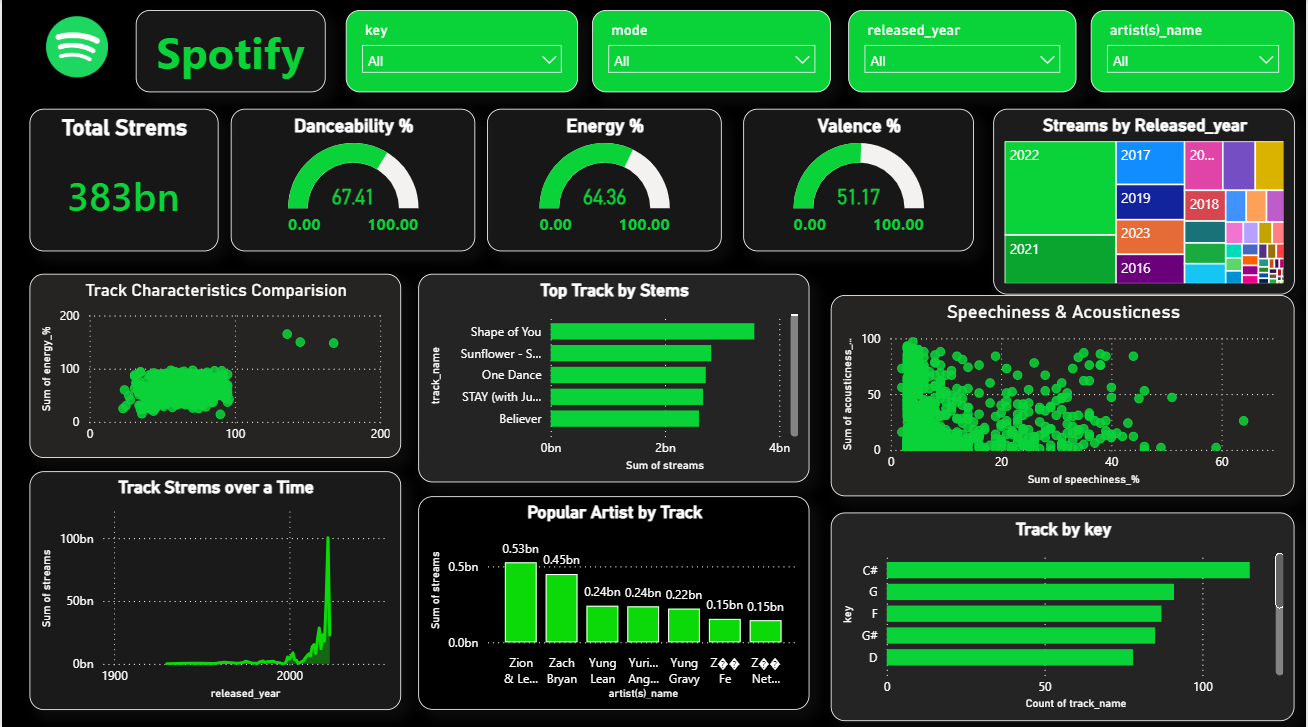

What the dashboard file says about the page in this screenshot:
{"tool":"powerbi","page":{"name":"Page 1","canvas":[1280,720],"ordinal":0},"visuals":[{"type":"slicer","fields":{"Values":["spotify-2023.mode"]},"box":[579.1,9.6,234.6,81],"z":0},{"type":"slicer","fields":{"Values":["spotify-2023.key"]},"box":[337.6,9.6,227.8,81],"z":1000},{"type":"slicer","fields":{"Values":["spotify-2023.released_year"]},"box":[830.2,9.6,223.7,81],"z":2000},{"type":"slicer","fields":{"Values":["spotify-2023.artist(s)_name"]},"box":[1069,9.6,200.3,81],"z":3000},{"type":"cardVisual","title":"Total Strems","fields":{"Data":["Sum(spotify-2023.streams)"]},"box":[27.4,107,185.2,140],"z":4000},{"type":"gauge","title":"Danceability %","fields":{"Y":["Avg(spotify-2023.danceability_%)"]},"box":[225,107,240.1,140],"z":5000},{"type":"image","box":[39.8,16.5,68.6,60.4],"z":6000},{"type":"textbox","box":[131.7,9.6,186.6,81],"z":7000},{"type":"gauge","title":"Energy %","fields":{"Y":["Avg(spotify-2023.energy_%)"]},"box":[476.2,107,230.5,140],"z":8000},{"type":"gauge","title":"Valence %","fields":{"Y":["Avg(spotify-2023.valence_%)"]},"box":[727.3,107,226.4,140],"z":9000},{"type":"treemap","title":" Streams by Released_year","fields":{"Group":["spotify-2023.released_year"],"Values":["Sum(spotify-2023.streams)"]},"box":[972.9,107,296.4,182.5],"z":10000},{"type":"scatterChart","title":"Track Characteristics Comparision","fields":{"Category":["spotify-2023.streams"],"X":["Sum(spotify-2023.danceability_%)"],"Y":["Sum(spotify-2023.energy_%)"]},"box":[27.4,269,365,181.1],"z":11000},{"type":"clusteredBarChart","title":"Top Track by Stems ","fields":{"Category":["spotify-2023.track_name"],"Y":["Sum(spotify-2023.streams)"]},"box":[408.9,269,384.2,204.5],"z":12000},{"type":"scatterChart","title":"Speechiness & Acousticness","fields":{"Category":["spotify-2023.streams"],"X":["Sum(spotify-2023.speechiness_%)"],"Y":["Sum(spotify-2023.acousticness_%)"]},"box":[813.7,289.5,455.6,197.6],"z":13000},{"type":"areaChart","title":"Track Strems over a Time","fields":{"Category":["spotify-2023.released_year"],"Y":["Sum(spotify-2023.streams)"]},"box":[27.4,462.4,365,234.6],"z":14000},{"type":"columnChart","title":"Popular Artist by Track","fields":{"Category":["spotify-2023.artist(s)_name"],"Y":["Sum(spotify-2023.streams)"]},"box":[408.9,487.1,384.2,209.9],"z":15000},{"type":"clusteredBarChart","title":"Track by key","fields":{"Category":["spotify-2023.key"],"Y":["CountNonNull(spotify-2023.track_name)"]},"box":[813.7,503.6,455.6,204.5],"z":16000}]}

Visuals, with their boxes in screenshot pixels (x1, y1, x2, y2), scaled from the page's 1280x720 canvas onto the 1308x727 screenshot:
slicer - spotify-2023.mode: 592/10/831/91
slicer - spotify-2023.key: 345/10/578/91
slicer - spotify-2023.released_year: 848/10/1077/91
slicer - spotify-2023.artist(s)_name: 1092/10/1297/91
"Total Strems" cardVisual: 28/108/217/249
"Danceability %" gauge: 230/108/475/249
image: 41/17/111/78
textbox: 135/10/325/91
"Energy %" gauge: 487/108/722/249
"Valence %" gauge: 743/108/975/249
" Streams by Released_year" treemap: 994/108/1297/292
"Track Characteristics Comparision" scatterChart: 28/272/401/454
"Top Track by Stems " clusteredBarChart: 418/272/810/478
"Speechiness & Acousticness" scatterChart: 831/292/1297/492
"Track Strems over a Time" areaChart: 28/467/401/704
"Popular Artist by Track" columnChart: 418/492/810/704
"Track by key" clusteredBarChart: 831/508/1297/715
